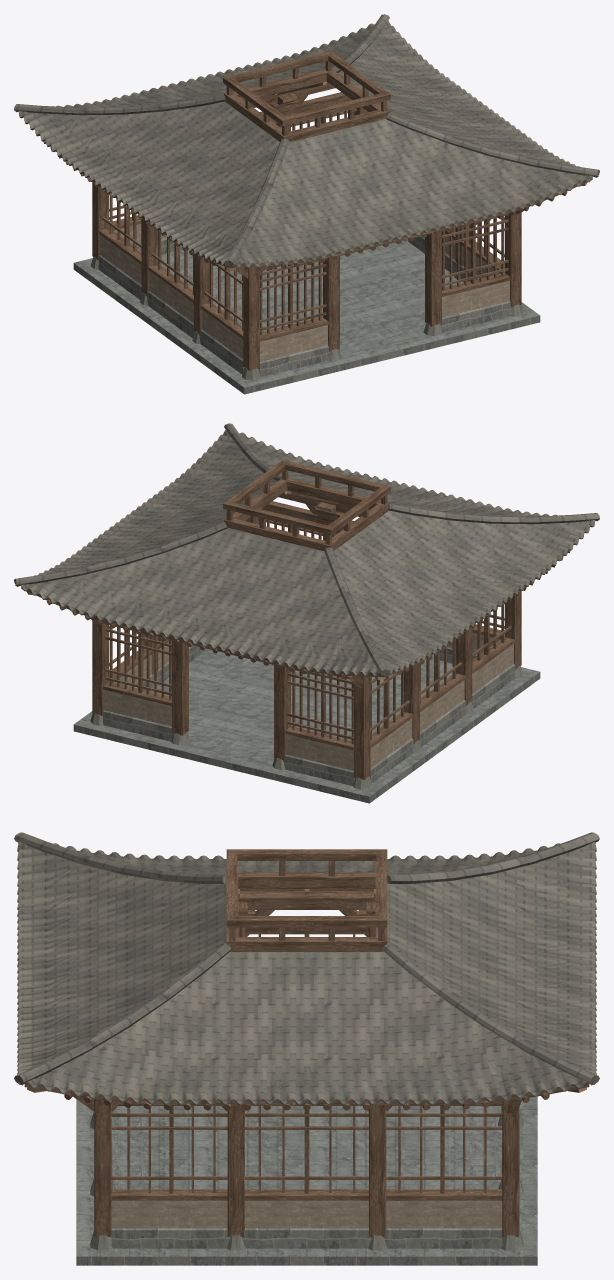
File: TianyiPavilion.fbx
The picture shows the model from 3 angles, top to bottom: view 1: azimuth 30°, elevation 25°; view 2: azimuth 150°, elevation 25°; view 3: azimuth 270°, elevation 25°; orthographic projection. The views are drawn at different scales.
Visible parts, largest first — view 1: Pavilion_LOD0; view 2: Pavilion_LOD0; view 3: Pavilion_LOD0.
Boxes of the visible parts, x1,y1,x2,y2 form: Pavilion_LOD0: (14, 14, 599, 394); Pavilion_LOD0: (14, 423, 599, 803); Pavilion_LOD0: (14, 832, 599, 1265).
Size of what is drawn, in the model's own units: 11.71 by 6.25 by 11.71.
